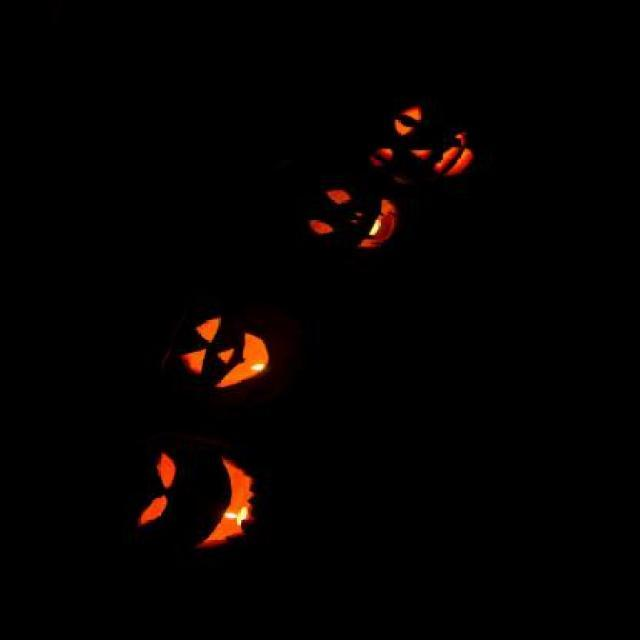Pumpkin: (92, 429, 306, 571), (148, 284, 320, 418), (344, 76, 502, 195), (269, 162, 423, 284)
